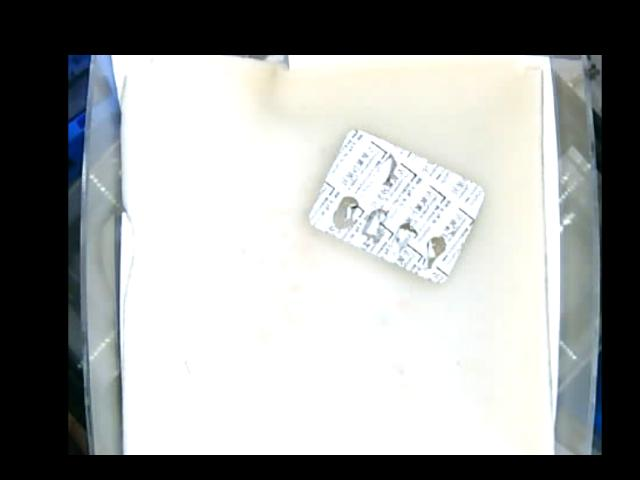Medicine: (308, 126, 484, 284)
